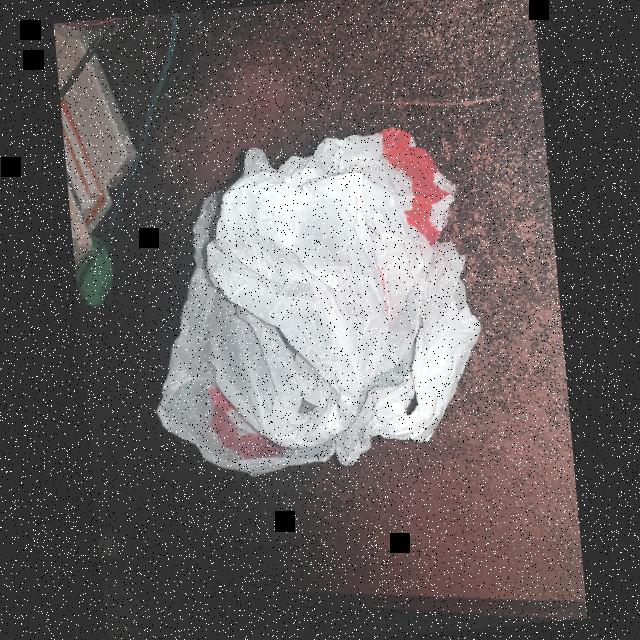plastic_bag: (120, 110, 503, 492)
